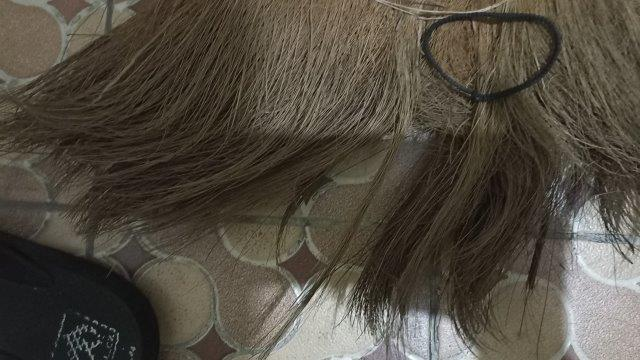karet: (423, 12, 559, 98)
